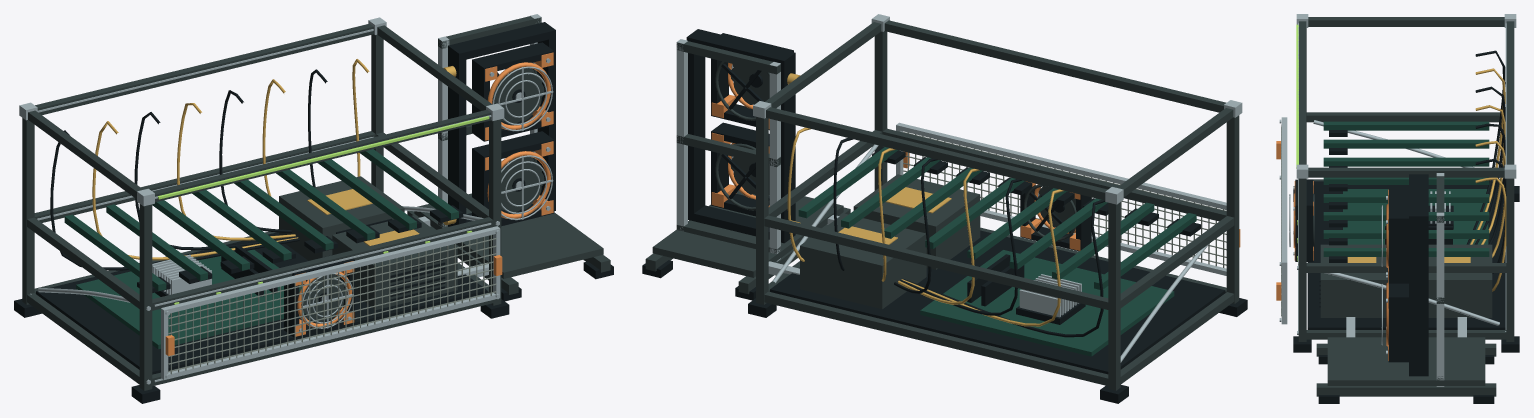
Rendered from rig-runtime-8-mesh-air.glb.
The picture shows the model from 3 angles, left to right: view 1: azimuth 30°, elevation 25°; view 2: azimuth 150°, elevation 25°; view 3: azimuth 270°, elevation 25°; orthographic projection. The views are drawn at different scales.
Visible parts, largest first — view 1: Anodized graphite (×5), Rubber and ABS (×5), Circuit board, Brushed aluminium (×6), Filter fibres, Industrial orange (×3), rig-runtime-8-mesh-air, Contacts, slot-cable-1, slot-cable-2, slot-cable-3, slot-cable-4 (+1 smaller); view 2: Anodized graphite (×3), Rubber and ABS (×5), Circuit board, Brushed aluminium (×3), Filter fibres, Industrial orange (×2), Contacts, slot-cable-1, slot-cable-2, slot-cable-3, slot-cable-4, slot-cable-5; view 3: Anodized graphite (×2), Rubber and ABS (×6), Circuit board, Brushed aluminium (×3), slot-cable-1, slot-cable-2, rig-runtime-8-mesh-air, slot-cable-3, slot-cable-4, slot-cable-8, slot-cable-5, Contacts (+2 smaller).
Part boxes in pixels (x1,y1,x2,y2): Anodized graphite (×5): [22, 16, 610, 390]; Rubber and ABS (×5): [14, 22, 555, 403]; Circuit board: [64, 149, 458, 349]; Brushed aluminium (×6): [19, 14, 553, 384]; Filter fibres: [168, 235, 496, 374]; Industrial orange (×3): [295, 52, 553, 336]; rig-runtime-8-mesh-air: [158, 116, 489, 199]; Contacts: [307, 189, 419, 246]; slot-cable-1: [50, 130, 299, 270]; slot-cable-2: [92, 121, 298, 260]; slot-cable-3: [134, 112, 297, 250]; slot-cable-4: [177, 103, 295, 240]; Anodized graphite (×3): [645, 20, 1239, 390]; Rubber and ABS (×5): [686, 29, 1247, 403]; Circuit board: [798, 147, 1196, 356]; Brushed aluminium (×3): [676, 14, 1242, 362]; Filter fibres: [903, 132, 1226, 267]; Industrial orange (×2): [711, 132, 1080, 250]; Contacts: [838, 187, 951, 244]; slot-cable-1: [902, 200, 1105, 337]; slot-cable-2: [901, 189, 1063, 326]; slot-cable-3: [900, 179, 1021, 315]; slot-cable-4: [898, 168, 979, 304]; slot-cable-5: [894, 158, 937, 293]; Anodized graphite (×2): [1298, 17, 1514, 396]; Rubber and ABS (×6): [1293, 130, 1519, 403]; Circuit board: [1323, 121, 1489, 256]; Brushed aluminium (×3): [1281, 14, 1516, 386]; slot-cable-1: [1466, 50, 1505, 244]; slot-cable-2: [1470, 68, 1505, 244]; rig-runtime-8-mesh-air: [1296, 24, 1298, 168]; slot-cable-3: [1474, 86, 1505, 244]; slot-cable-4: [1475, 105, 1505, 244]; slot-cable-8: [1475, 177, 1506, 291]; slot-cable-5: [1475, 123, 1505, 244]; Contacts: [1347, 257, 1470, 262].
Bounding box in the file's own units: 8.02 × 3.32 × 3.94.
